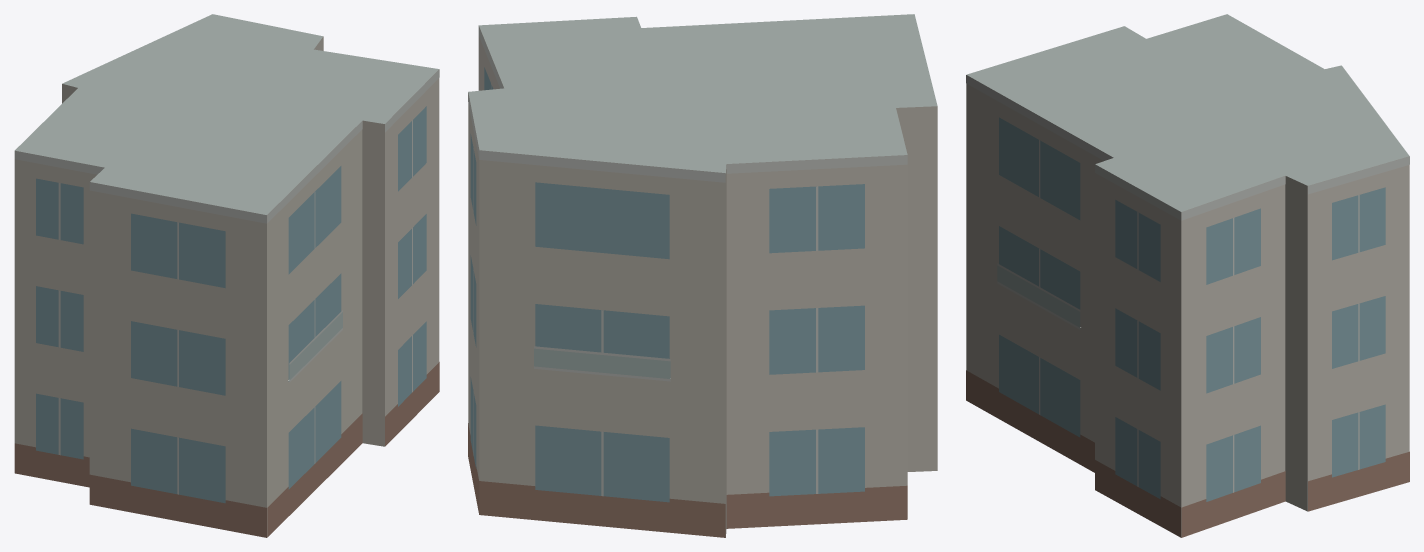
Rendered from survey-upis-32792643.glb.
3 renders of one model, left to right at view 1: azimuth 30°, elevation 25°; view 2: azimuth 150°, elevation 25°; view 3: azimuth 270°, elevation 25°, orthographic. The views are drawn at different scales.
Visible parts, largest first — view 1: survey-upis-32792643.tmp; view 2: survey-upis-32792643.tmp; view 3: survey-upis-32792643.tmp.
Part boxes in pixels (bbox=[...]): survey-upis-32792643.tmp: bbox=[14, 14, 439, 537]; survey-upis-32792643.tmp: bbox=[468, 14, 937, 537]; survey-upis-32792643.tmp: bbox=[966, 14, 1409, 537].
Bounding box in the file's own units: 12.01 × 9.2 × 11.36.
